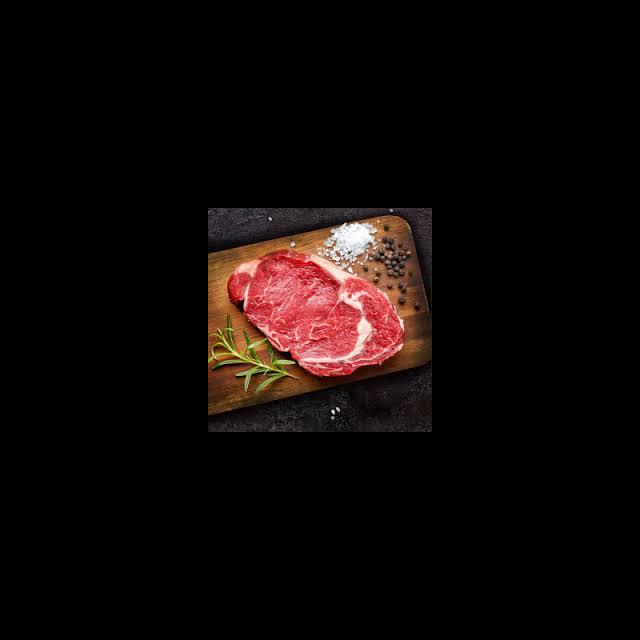beef: (230, 252, 407, 373)
